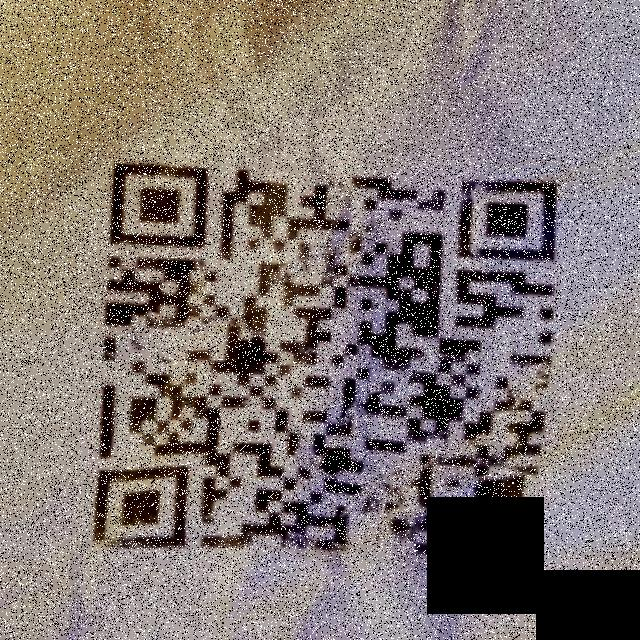QR_CODE: (81, 142, 566, 578)
